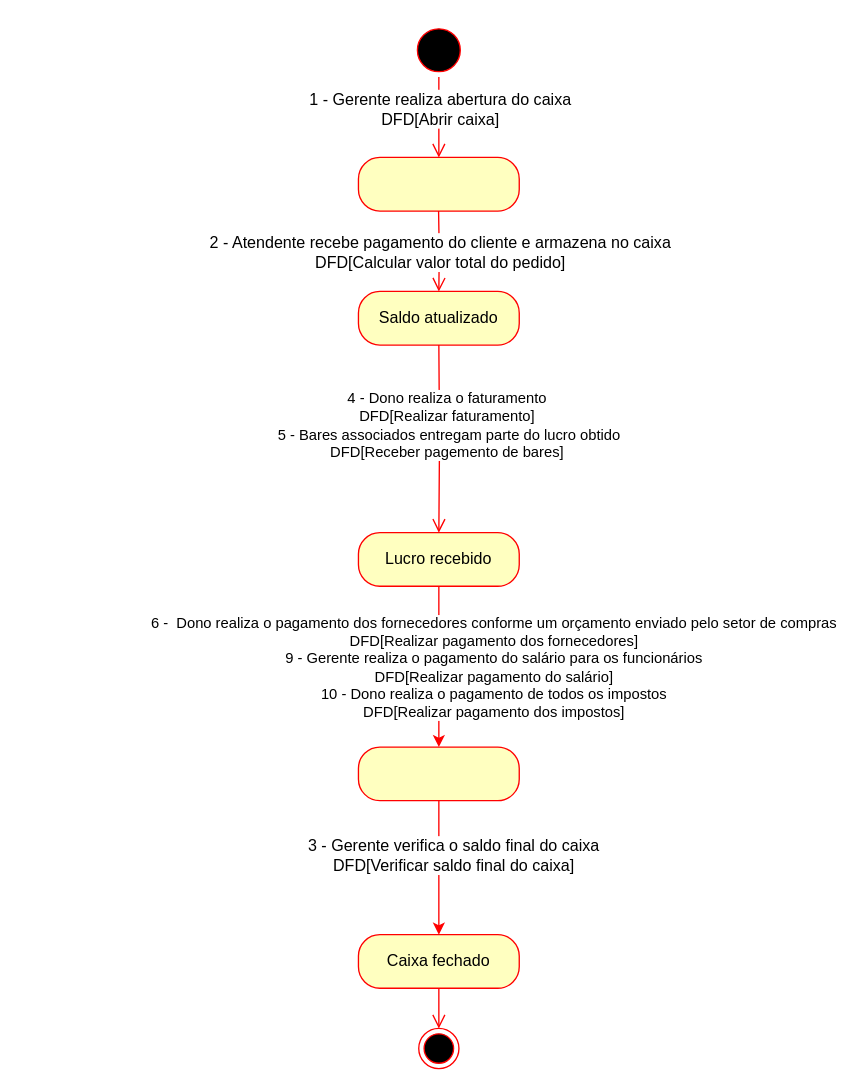
This 859x1092 diagram has some shape labels left out. Each missing label, with the centre of its shape:
"Caixa aberto" goes at pixel 438 183.
"Pagamentos feitos" goes at pixel 438 773.
